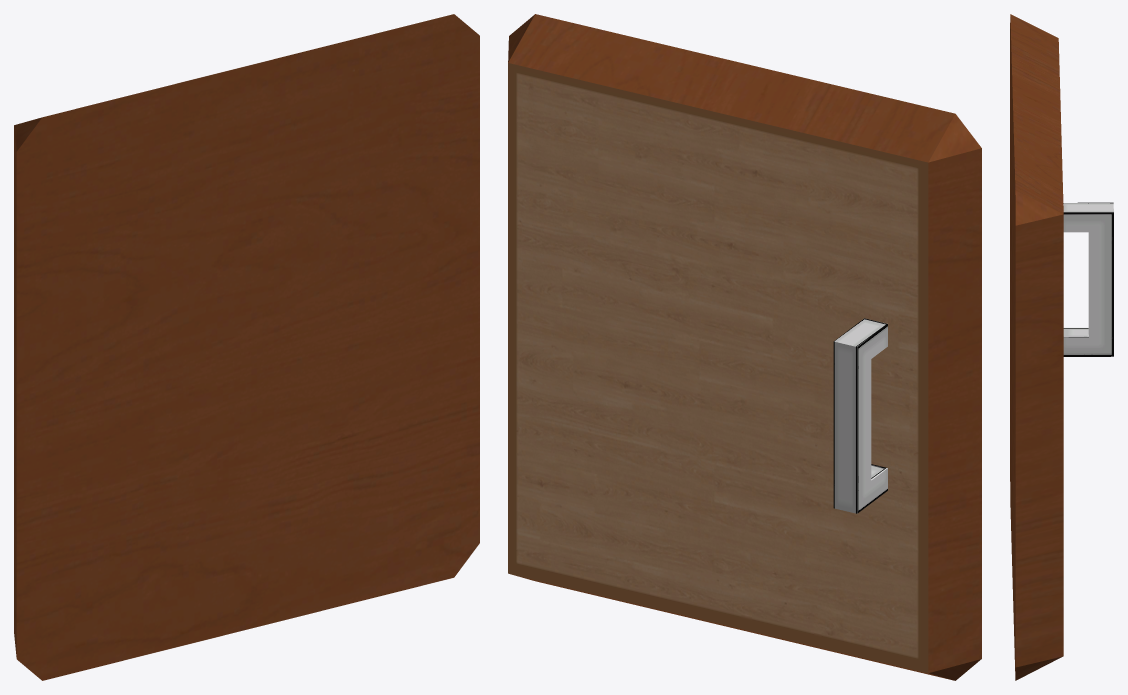
Rendered from Cupboard_Open_Door_Left.fbx.
3 views of the same model, side by side, from view 1: azimuth 30°, elevation 25°; view 2: azimuth 150°, elevation 25°; view 3: azimuth 270°, elevation 25° (orthographic). The views are drawn at different scales.
Parts seen in each view (by area): view 1: Cupboard_Door; view 2: Cupboard_Door; view 3: Cupboard_Door.
Boxes of the visible parts, bbox=[...] form: Cupboard_Door: bbox=[14, 14, 479, 680]; Cupboard_Door: bbox=[508, 14, 981, 680]; Cupboard_Door: bbox=[1010, 14, 1113, 680].
Bounding box in the file's own units: 62.32 × 71.94 × 13.81.
